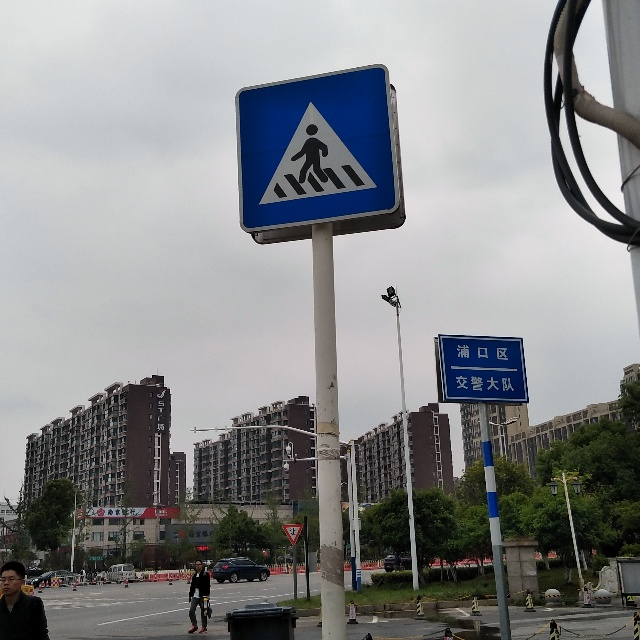crosswalk: (235, 64, 408, 246)
